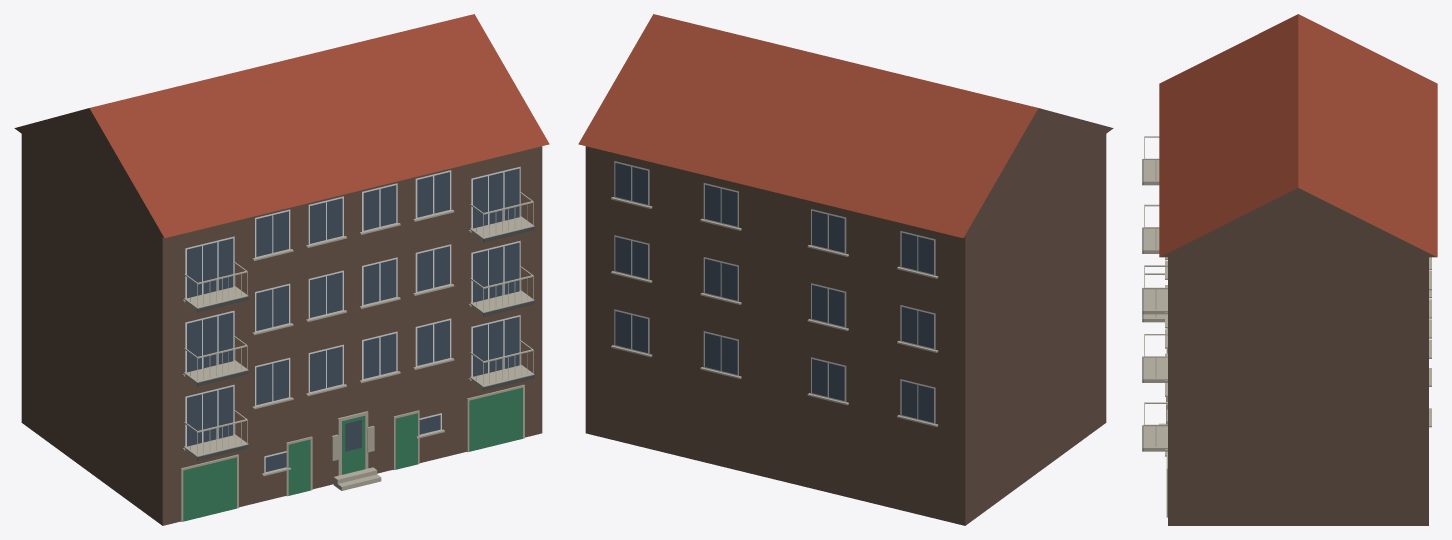
Rendered from nw-portiek-hof-garage-4st__brown-green-4w__4__gable__long__solid.glb.
The picture shows the model from 3 angles, left to right: view 1: azimuth 30°, elevation 25°; view 2: azimuth 150°, elevation 25°; view 3: azimuth 270°, elevation 25°; orthographic projection. The views are drawn at different scales.
Visible parts, largest first — view 1: nw-portiek-hof-garage-4st__brown-green-4w__4__gable__long__s; view 2: nw-portiek-hof-garage-4st__brown-green-4w__4__gable__long__s; view 3: nw-portiek-hof-garage-4st__brown-green-4w__4__gable__long__s.
Part boxes in pixels (x1,y1,x2,y2): nw-portiek-hof-garage-4st__brown-green-4w__4__gable__long__s: (14, 14, 549, 525); nw-portiek-hof-garage-4st__brown-green-4w__4__gable__long__s: (578, 14, 1113, 525); nw-portiek-hof-garage-4st__brown-green-4w__4__gable__long__s: (1142, 14, 1437, 525).
Bounding box in the file's own units: 16.52 × 15.05 × 11.86.
